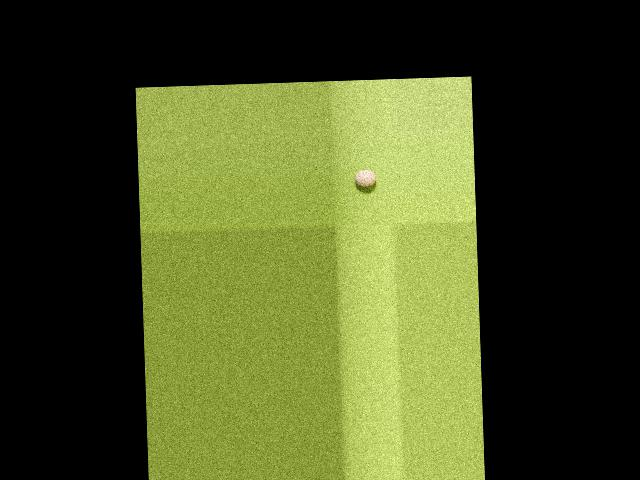egg: (353, 170, 376, 187)
